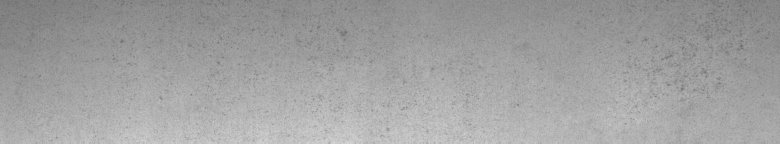ib: (643, 29, 743, 94)
